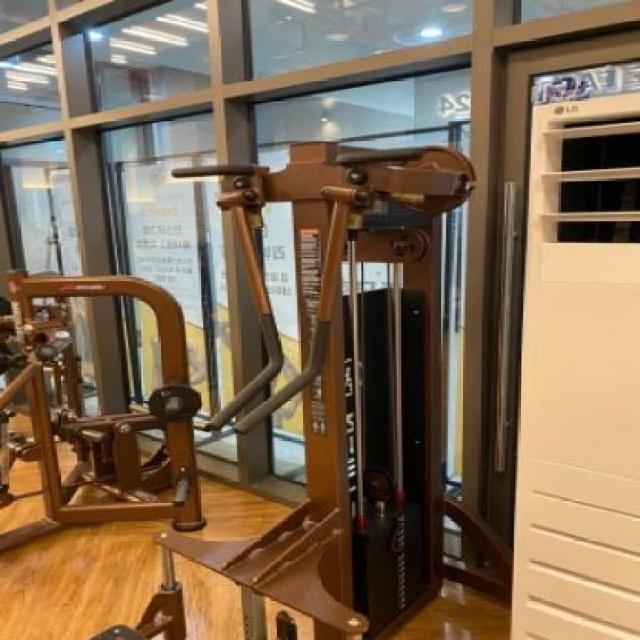lateral raises machine: (166, 143, 472, 640)
